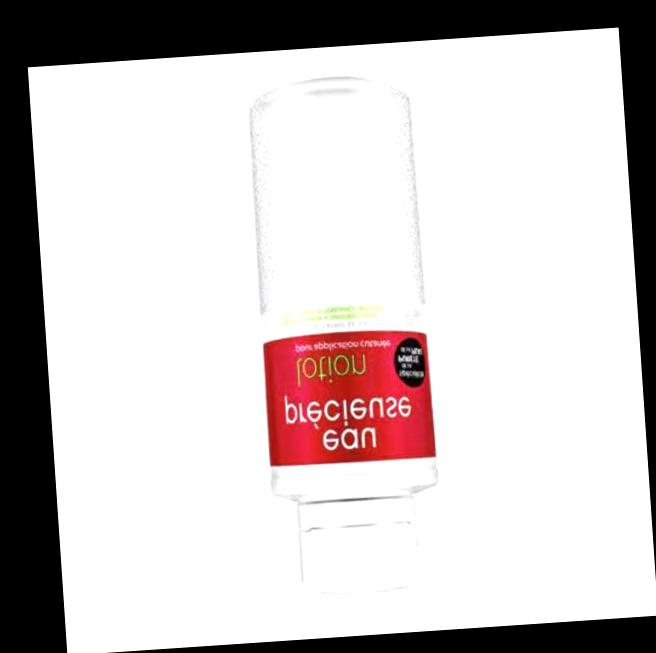cosmetic: (244, 93, 444, 597)
